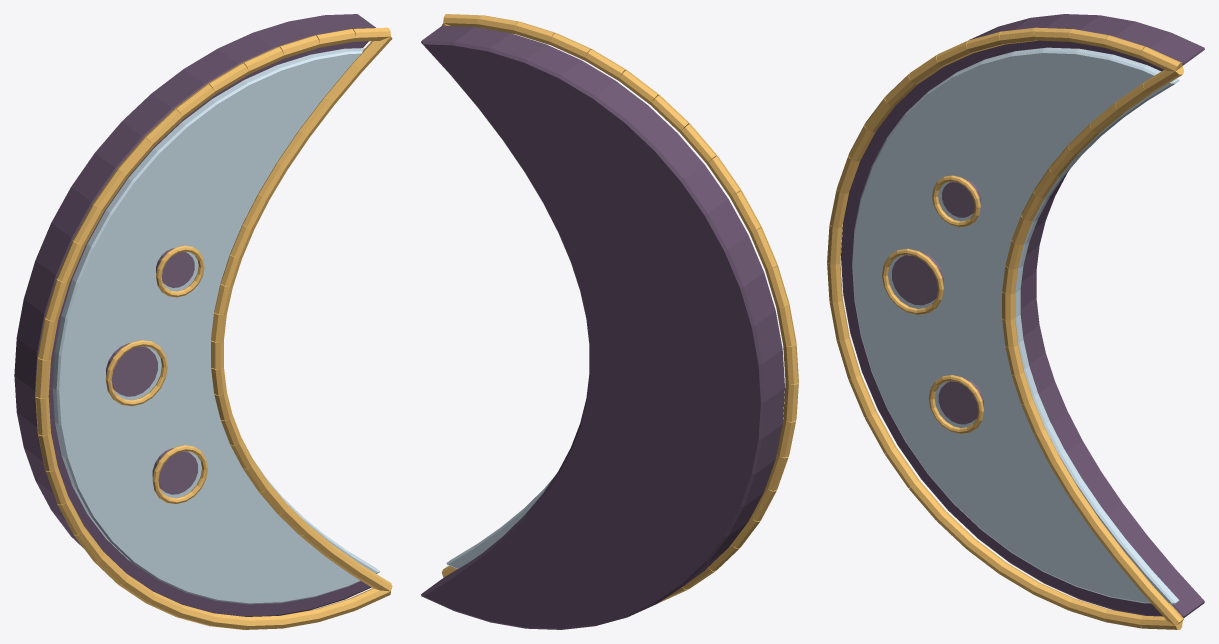
File: SM_S3_BloomMoon.fbx
3 renders of one model, left to right at view 1: azimuth 30°, elevation 25°; view 2: azimuth 150°, elevation 25°; view 3: azimuth 330°, elevation 25°, orthographic.
Parts seen in each view (by area): view 1: SM_S3_BloomMoon; view 2: SM_S3_BloomMoon; view 3: SM_S3_BloomMoon.
Part boxes in pixels (x1=…): SM_S3_BloomMoon: x1=14, y1=14, x2=392, y2=629; SM_S3_BloomMoon: x1=421, y1=14, x2=798, y2=629; SM_S3_BloomMoon: x1=827, y1=14, x2=1204, y2=629.
Bounding box in the file's own units: 106 × 19.8 × 168.
